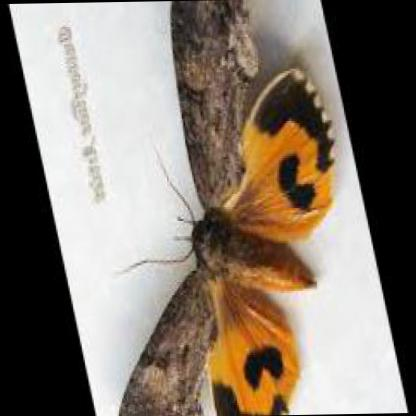fruit sucking moth: (118, 0, 334, 414)
